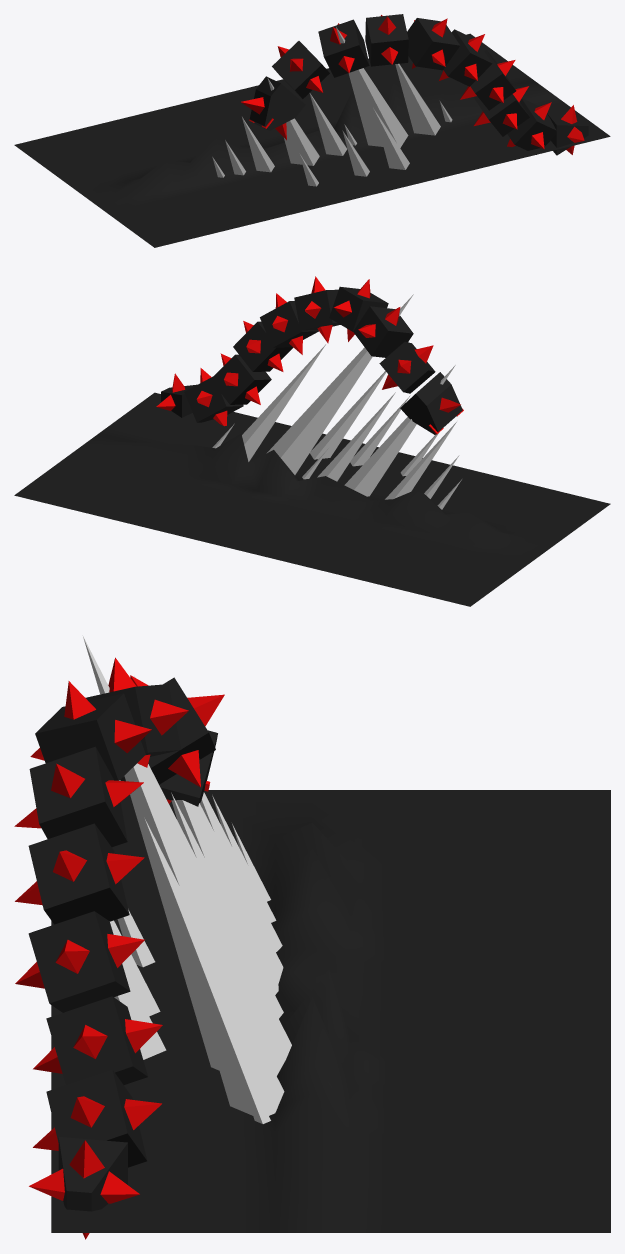
Rendered from Design.fbx.
3 views of the same model, one above another, from view 1: azimuth 30°, elevation 25°; view 2: azimuth 150°, elevation 25°; view 3: azimuth 270°, elevation 25° (orthographic). The views are drawn at different scales.
Parts seen in each view (by area): view 1: Plan, pCube17 (×9), pPyramid107, Head, pPyramid108, pPyramid109, pPyramid106, pPyramid115, pPyramid110, pPyramid116; view 2: Plan, pCube17 (×9), pPyramid107, Head, pPyramid109, pPyramid108, pPyramid115, pPyramid106, pPyramid110, pPyramid116; view 3: Plan, pCube17 (×9), pPyramid107, pPyramid108, pPyramid109, pPyramid106, pPyramid110, Head, pPyramid115, pPyramid116, pPyramid111.
Boxes of the visible parts, box(x1,y1,x2,y2) form: Plan: box(14, 33, 610, 247); pCube17 (×9): box(272, 14, 588, 155); pPyramid107: box(336, 27, 408, 147); Head: box(249, 76, 305, 130); pPyramid108: box(395, 63, 440, 135); pPyramid109: box(267, 78, 319, 165); pPyramid106: box(309, 93, 346, 155); pPyramid115: box(373, 108, 409, 169); pPyramid110: box(242, 117, 274, 172); pPyramid116: box(342, 130, 369, 176); Plan: box(14, 392, 610, 606); pCube17 (×9): box(161, 286, 435, 422); pPyramid107: box(266, 294, 413, 474); Head: box(400, 372, 462, 434); pPyramid109: box(344, 365, 455, 496); pPyramid108: box(242, 344, 325, 461); pPyramid115: box(310, 371, 386, 459); pPyramid106: box(317, 392, 395, 481); pPyramid110: box(385, 422, 456, 499); pPyramid116: box(350, 395, 410, 466); Plan: box(51, 790, 610, 1232); pCube17 (×9): box(28, 677, 215, 1211); pPyramid107: box(83, 636, 291, 1075); pPyramid108: box(144, 817, 284, 1115); pPyramid109: box(134, 676, 283, 994); pPyramid106: box(171, 792, 283, 1018); pPyramid110: box(200, 792, 282, 951); Head: box(120, 730, 217, 806); pPyramid115: box(114, 964, 166, 1059); pPyramid116: box(110, 920, 160, 1016); pPyramid111: box(212, 795, 276, 922).
Size of the model in its own units: 29.59 by 11.69 by 16.85.
